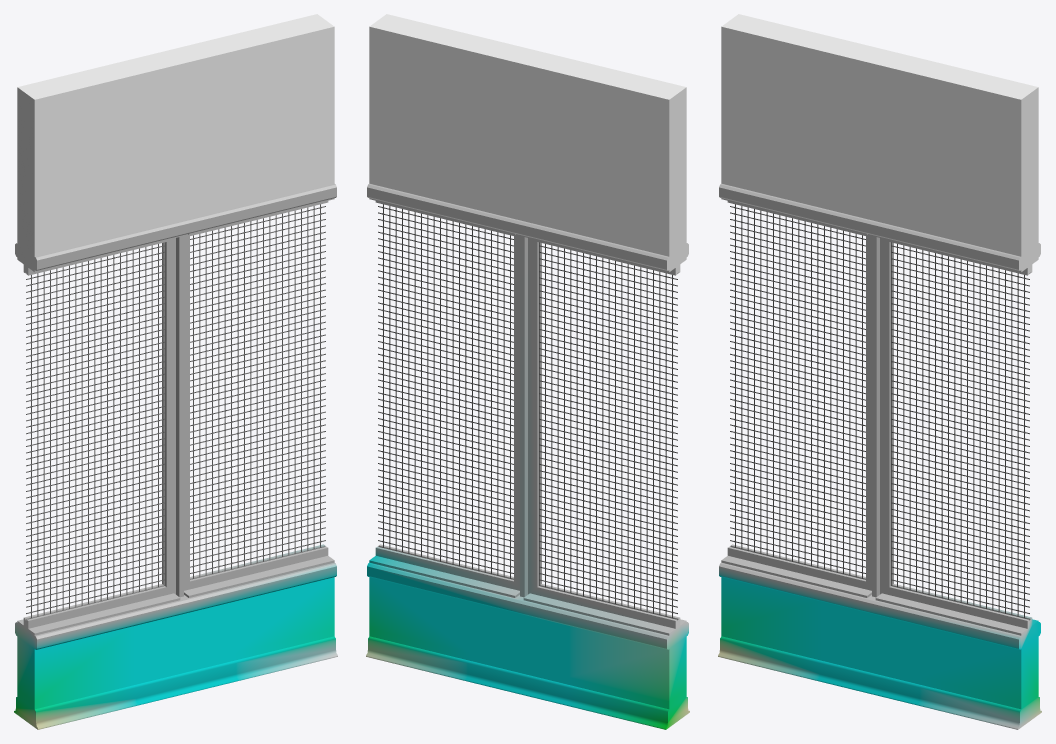
File: SM_Wall_window_b@VertexColors_0.fbx
The picture shows the model from 3 angles, left to right: view 1: azimuth 30°, elevation 25°; view 2: azimuth 150°, elevation 25°; view 3: azimuth 330°, elevation 25°; orthographic projection.
Visible parts, largest first — view 1: SM_Wall_window_b_LOD0; view 2: SM_Wall_window_b_LOD0; view 3: SM_Wall_window_b_LOD0.
Boxes of the visible parts, x1=… form: SM_Wall_window_b_LOD0: x1=14, y1=14, x2=337, y2=729; SM_Wall_window_b_LOD0: x1=366, y1=14, x2=689, y2=729; SM_Wall_window_b_LOD0: x1=718, y1=14, x2=1041, y2=729.
Bounding box in the file's own units: 200 × 27.69 × 400.
